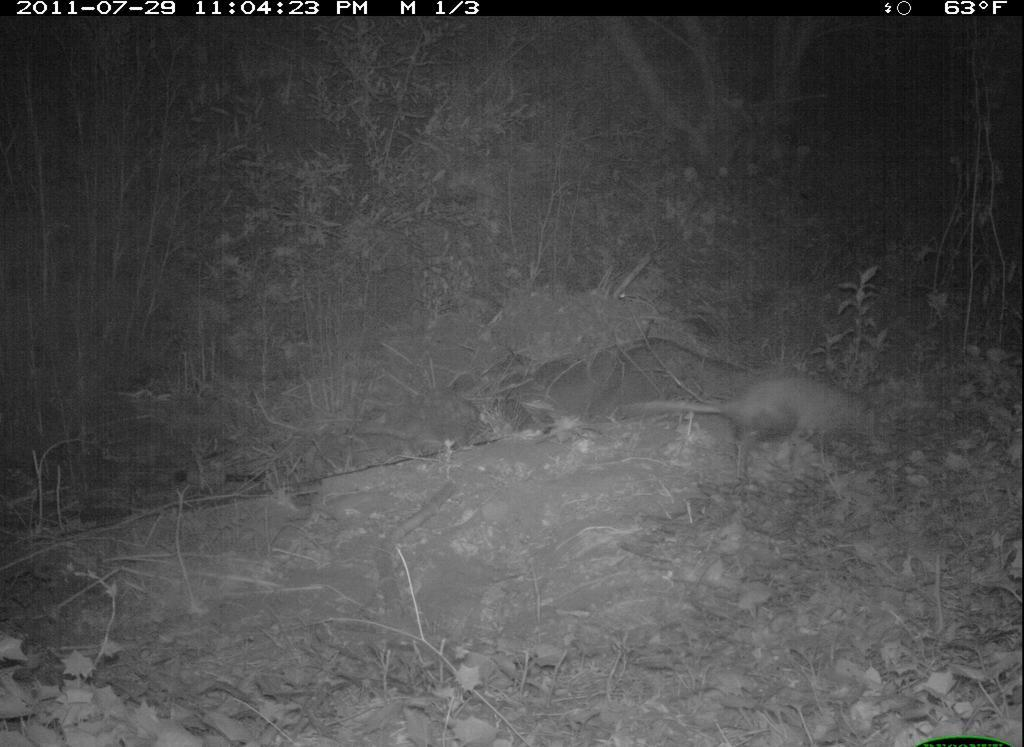opossum: (625, 369, 884, 460)
